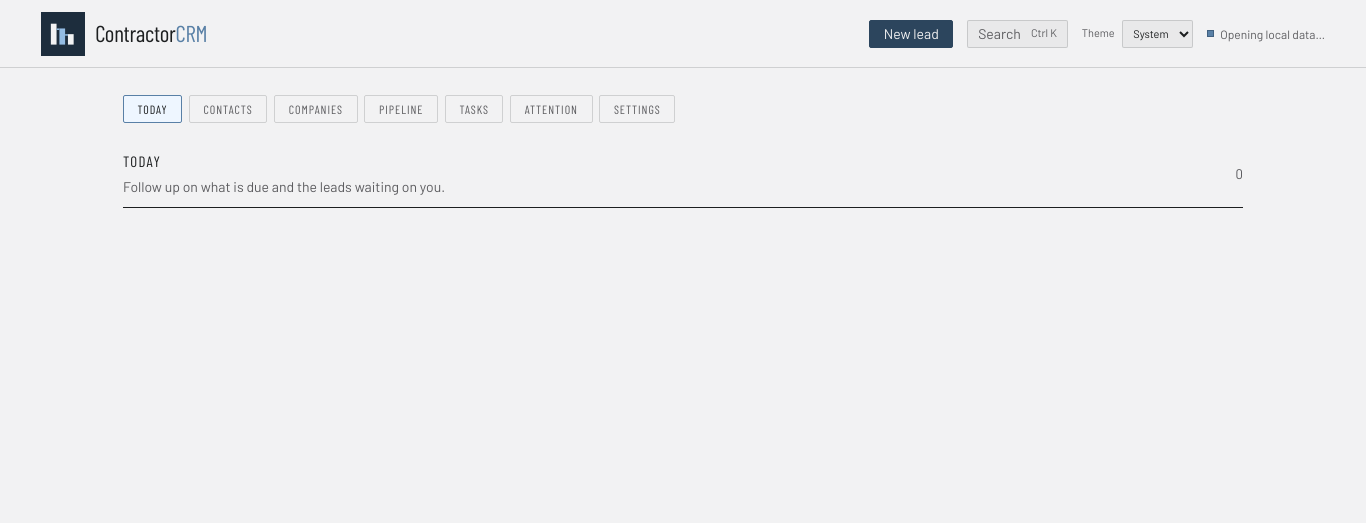
Test: contact list and detail › renders contact rows with company, kind, role, channel, and favorite
Step 1. Click the button "Contacts" → point(228, 109), box [189,95,267,123]
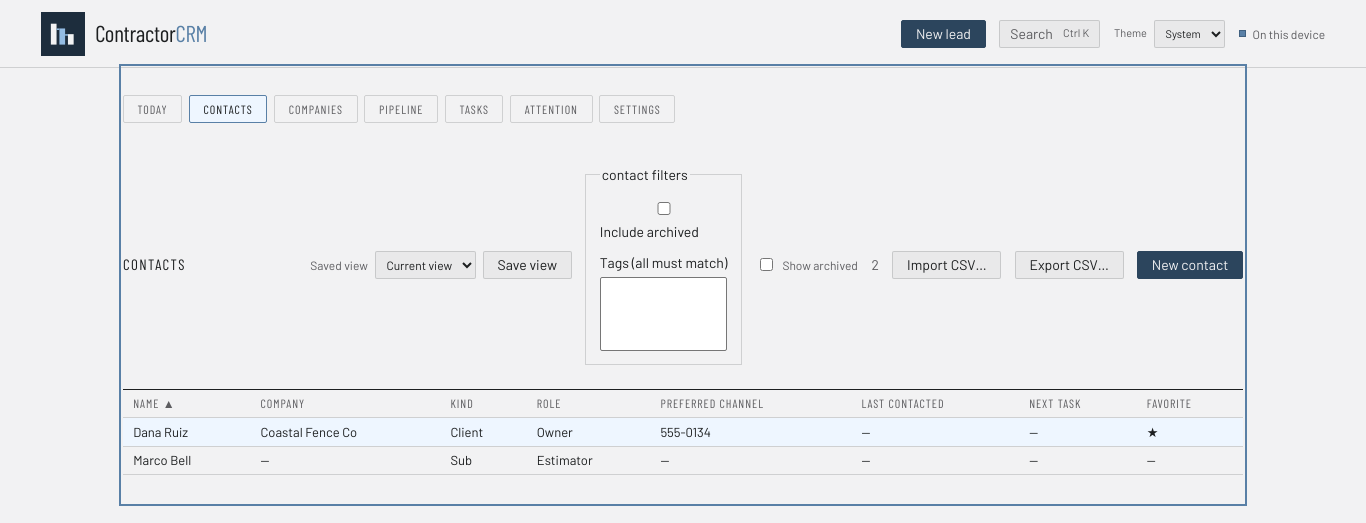
Now the text "Dana Ruiz" is shown, box [133,424,188,440]
Now the text "Coastal Fence Co" is shown, box [250,418,440,446]
Now the text "Client" is shown, box [440,418,527,446]
